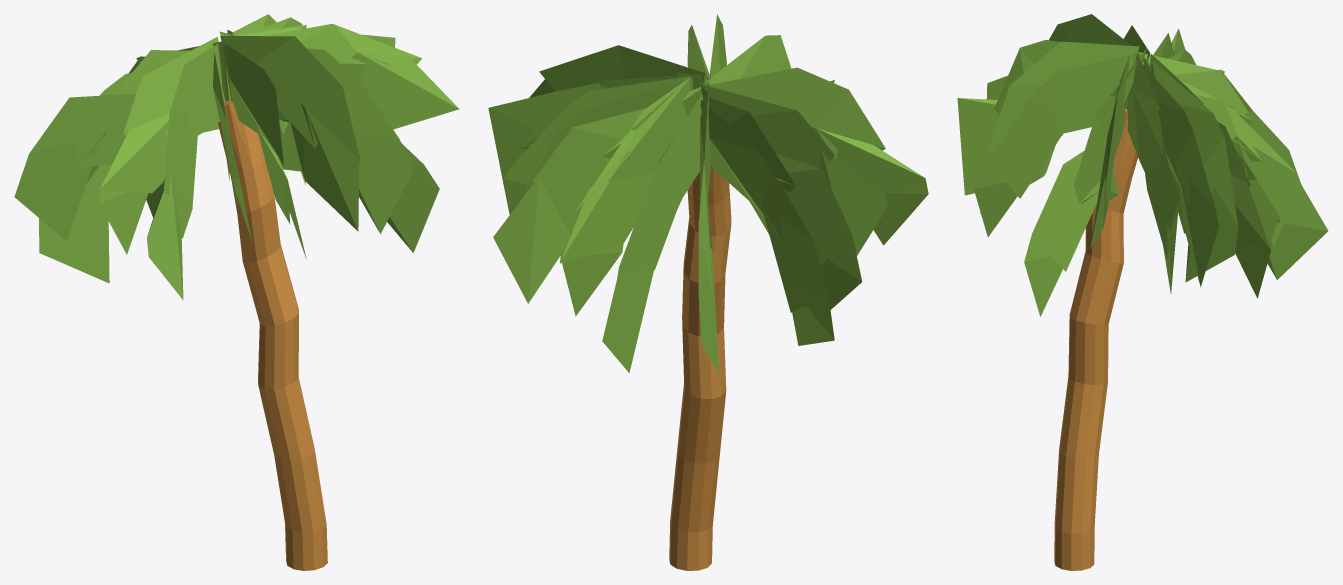
3 views of the same model, side by side, from view 1: azimuth 30°, elevation 25°; view 2: azimuth 150°, elevation 25°; view 3: azimuth 270°, elevation 25° (orthographic). The views are drawn at different scales.
Visible parts, largest first — view 1: mesh_551291561, group_199317501, group_59512116, group_1563798512, group_303723010, group_137293426, group_2013818063, group_1112982328, group_2033907984, group_1744041653, group_1774307138; view 2: mesh_551291561, group_761979314, group_1221962360, group_1563798512, group_2033907984, group_2100156615, group_59512116, group_303723010, group_1559828347, group_137293426, group_1114674819, group_167516316 (+4 smaller); view 3: mesh_551291561, group_2013818063, group_1744041653, group_2100156615, group_167516316, group_1559828347, group_671833391, group_199317501, group_1112982328, group_761979314, group_1114674819, group_137293426 (+3 smaller).
Boxes of the visible parts, x1,y1,x2,y2 form: mesh_551291561: [218, 98, 327, 570]; group_199317501: [220, 36, 360, 231]; group_59512116: [14, 50, 230, 241]; group_1563798512: [147, 44, 222, 299]; group_303723010: [99, 37, 225, 254]; group_137293426: [265, 24, 459, 129]; group_2013818063: [278, 48, 413, 233]; group_1112982328: [224, 44, 306, 259]; group_2033907984: [39, 72, 218, 283]; group_1744041653: [219, 31, 439, 252]; group_1774307138: [213, 52, 252, 241]; mesh_551291561: [669, 163, 731, 570]; group_761979314: [493, 84, 707, 303]; group_1221962360: [560, 77, 690, 316]; group_1563798512: [707, 67, 928, 245]; group_2033907984: [698, 97, 834, 345]; group_2100156615: [602, 93, 702, 373]; group_59512116: [703, 96, 862, 309]; group_303723010: [701, 84, 887, 255]; group_1559828347: [488, 74, 701, 214]; group_137293426: [529, 45, 704, 97]; group_1114674819: [698, 80, 718, 373]; group_167516316: [504, 76, 693, 210]; mesh_551291561: [1054, 108, 1137, 570]; group_2013818063: [974, 54, 1131, 236]; group_1744041653: [1024, 48, 1146, 316]; group_2100156615: [1142, 61, 1328, 279]; group_167516316: [1141, 63, 1218, 286]; group_1559828347: [1127, 53, 1178, 293]; group_671833391: [1150, 61, 1238, 282]; group_199317501: [980, 41, 1139, 213]; group_1112982328: [957, 40, 1141, 195]; group_761979314: [1143, 57, 1270, 298]; group_1114674819: [1138, 52, 1300, 183]; group_137293426: [1090, 55, 1129, 247].
Bounding box in the file's own units: 85.32 × 112 × 73.18.
